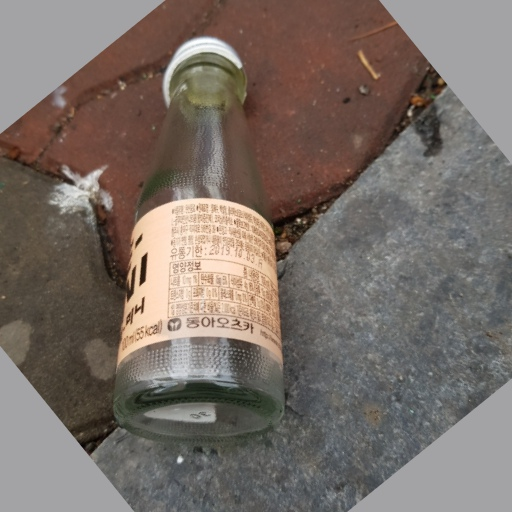Glass_4: (113, 32, 284, 444)
